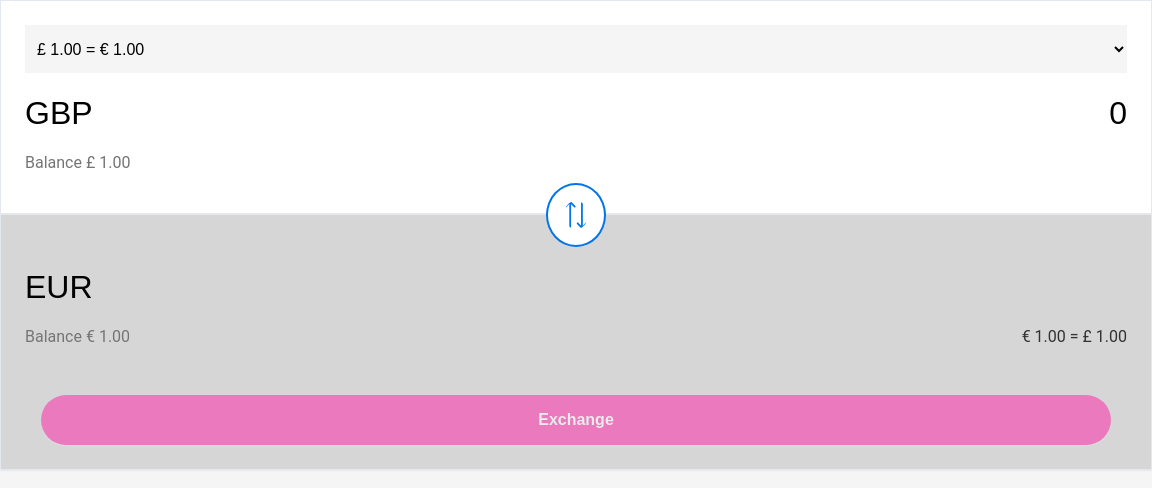
it: ForeignExchange › disable exchange button for out of bound amount
Replace the text in the number field with test id "input-amount" with "10": (652, 113) [177,89,1127,137]
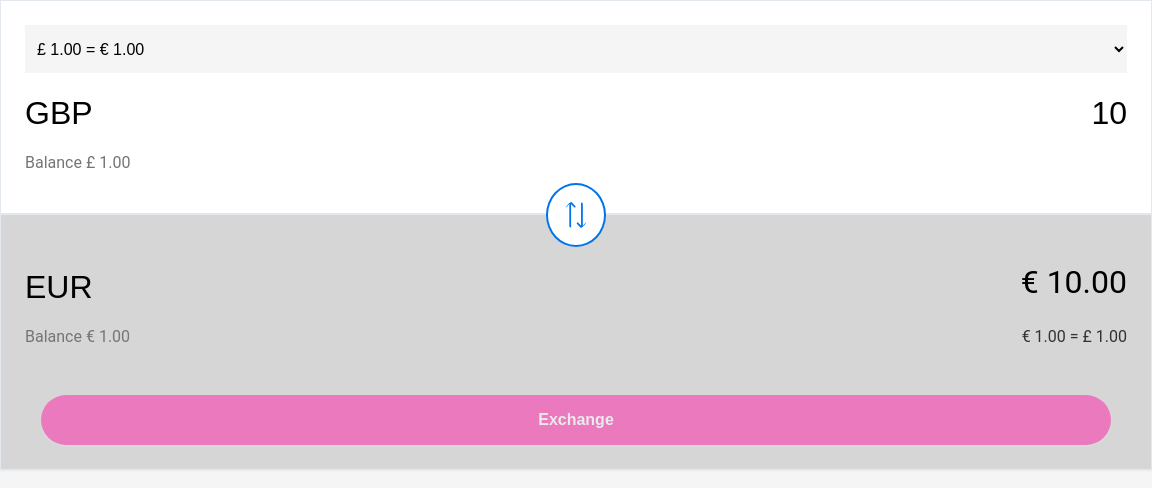
Expected: the button is disabled, [41,395,1111,445]
Replace the text in the number field with test id "input-amount" with "1": (652, 113) [177,89,1127,137]
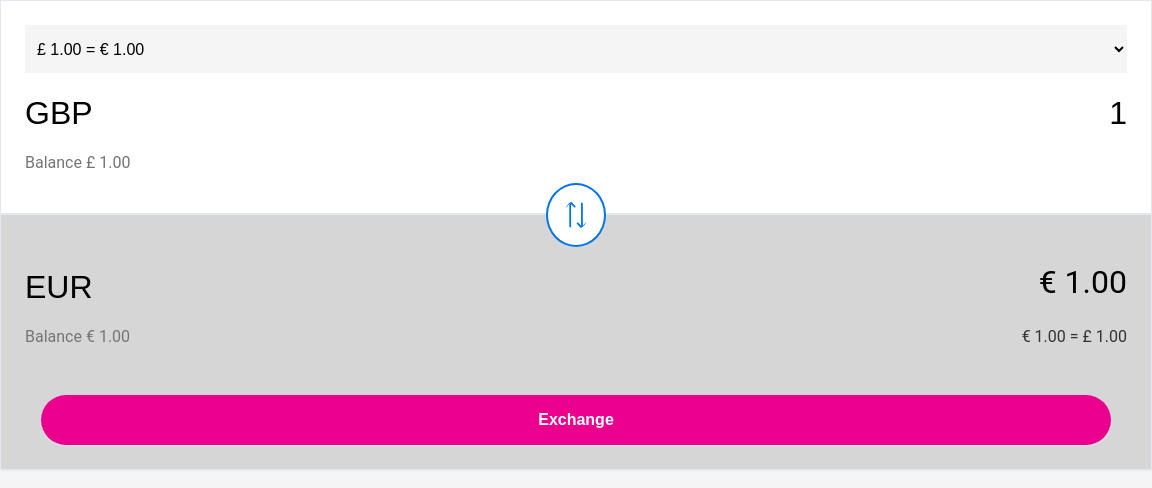
Now the button is enabled, box [41,395,1111,445]
